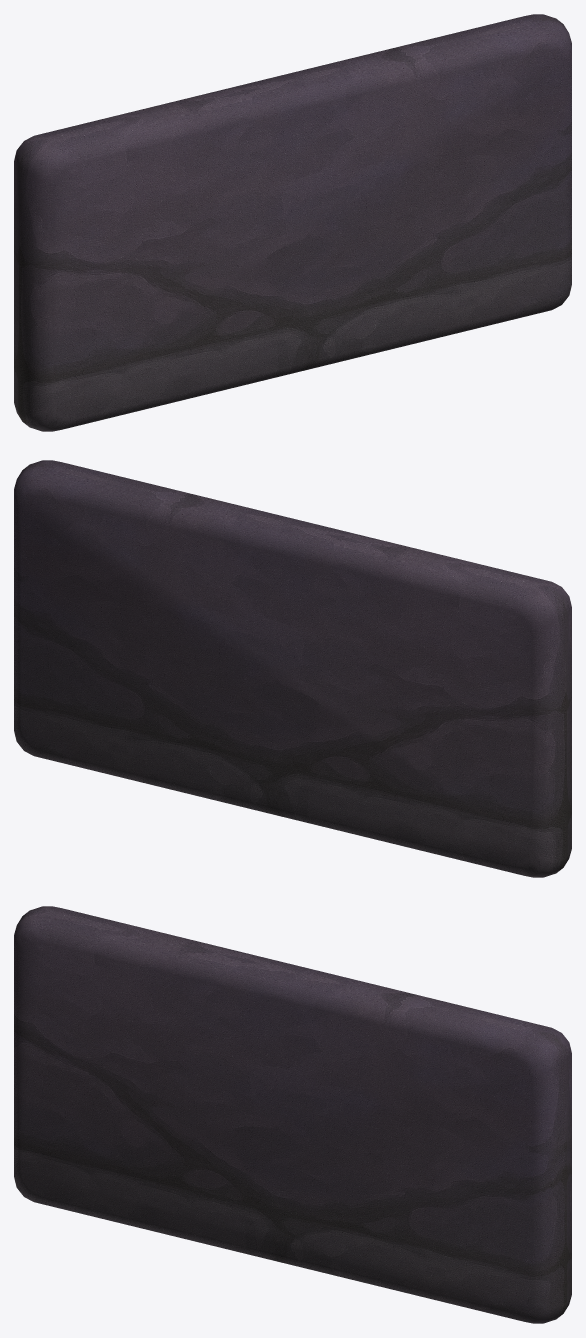
File: wall.fbx
The picture shows the model from 3 angles, top to bottom: view 1: azimuth 30°, elevation 25°; view 2: azimuth 150°, elevation 25°; view 3: azimuth 330°, elevation 25°; orthographic projection.
Parts seen in each view (by area): view 1: Wall; view 2: Wall; view 3: Wall.
Boxes of the visible parts, <box> form: Wall: <box>14,14,571,431</box>; Wall: <box>14,460,571,877</box>; Wall: <box>14,906,571,1323</box>.
Bounding box in the file's own units: 200 × 100 × 20.48.
